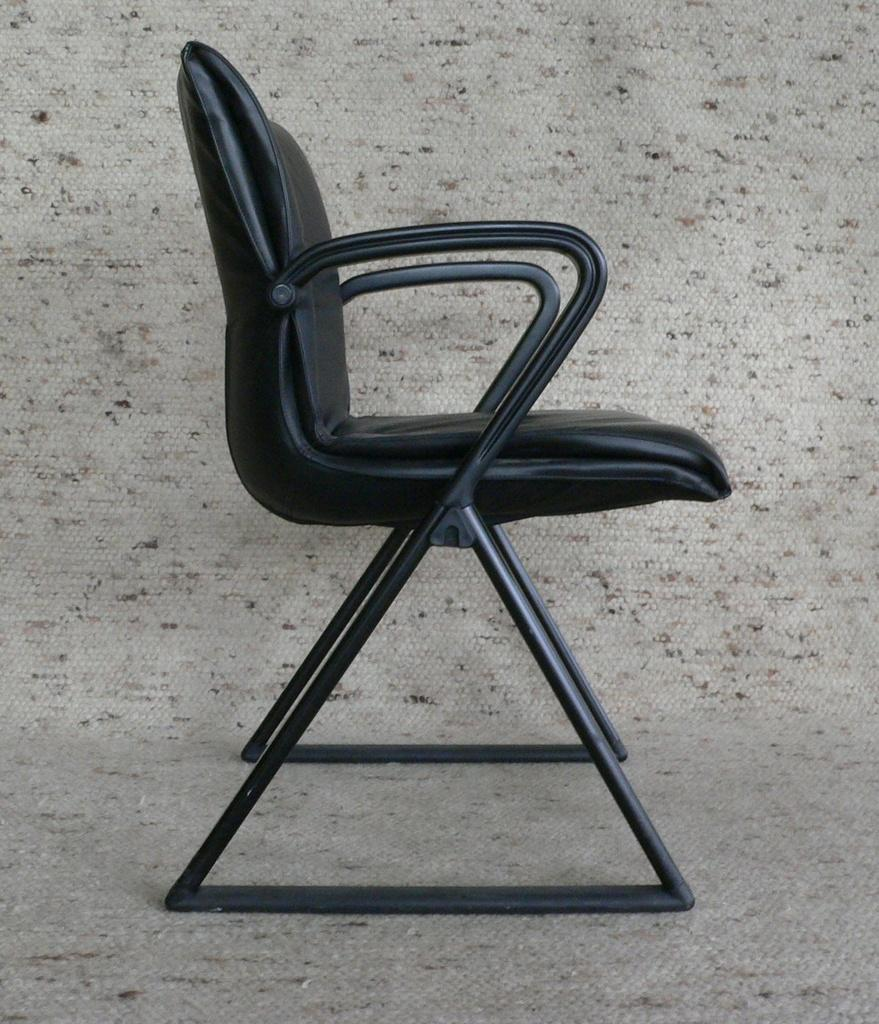Chair: (165, 29, 742, 898)
